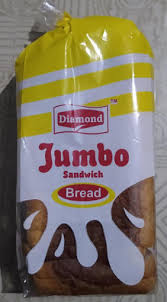bread: (12, 14, 155, 302)
